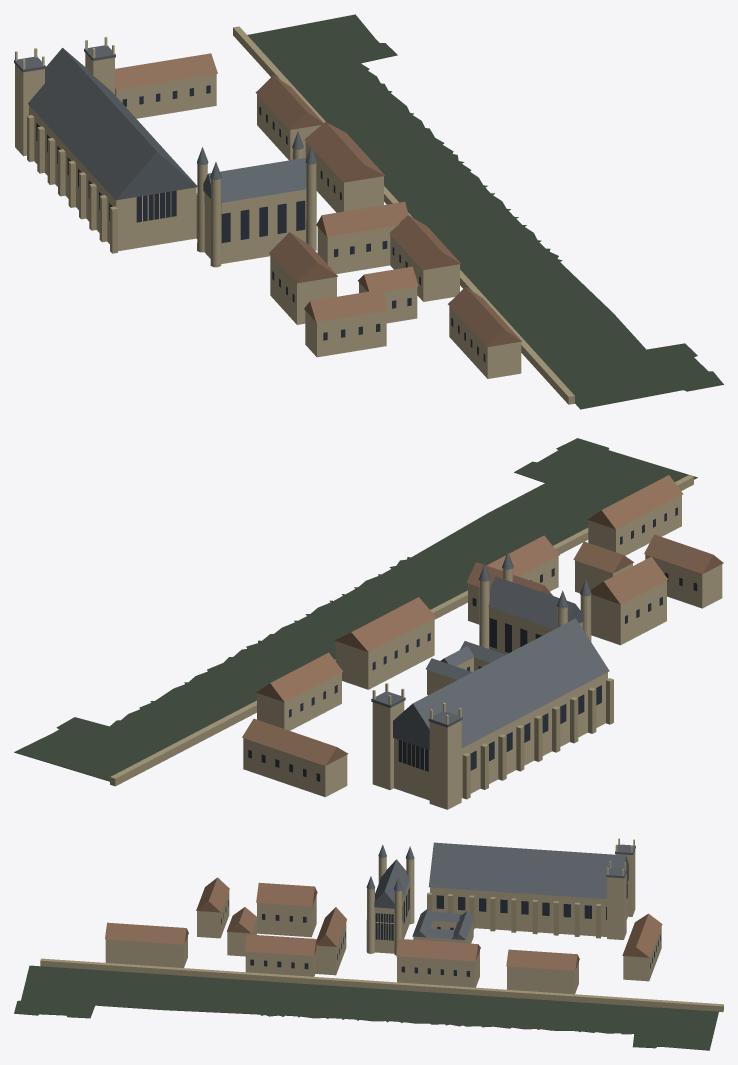
File: westminster-site-b30.glb
3 views of the same model, one above another, from view 1: azimuth 30°, elevation 25°; view 2: azimuth 150°, elevation 25°; view 3: azimuth 270°, elevation 25° (orthographic). The views are drawn at different scales.
Bounding box in the file's own units: 138 × 32.01 × 269.
